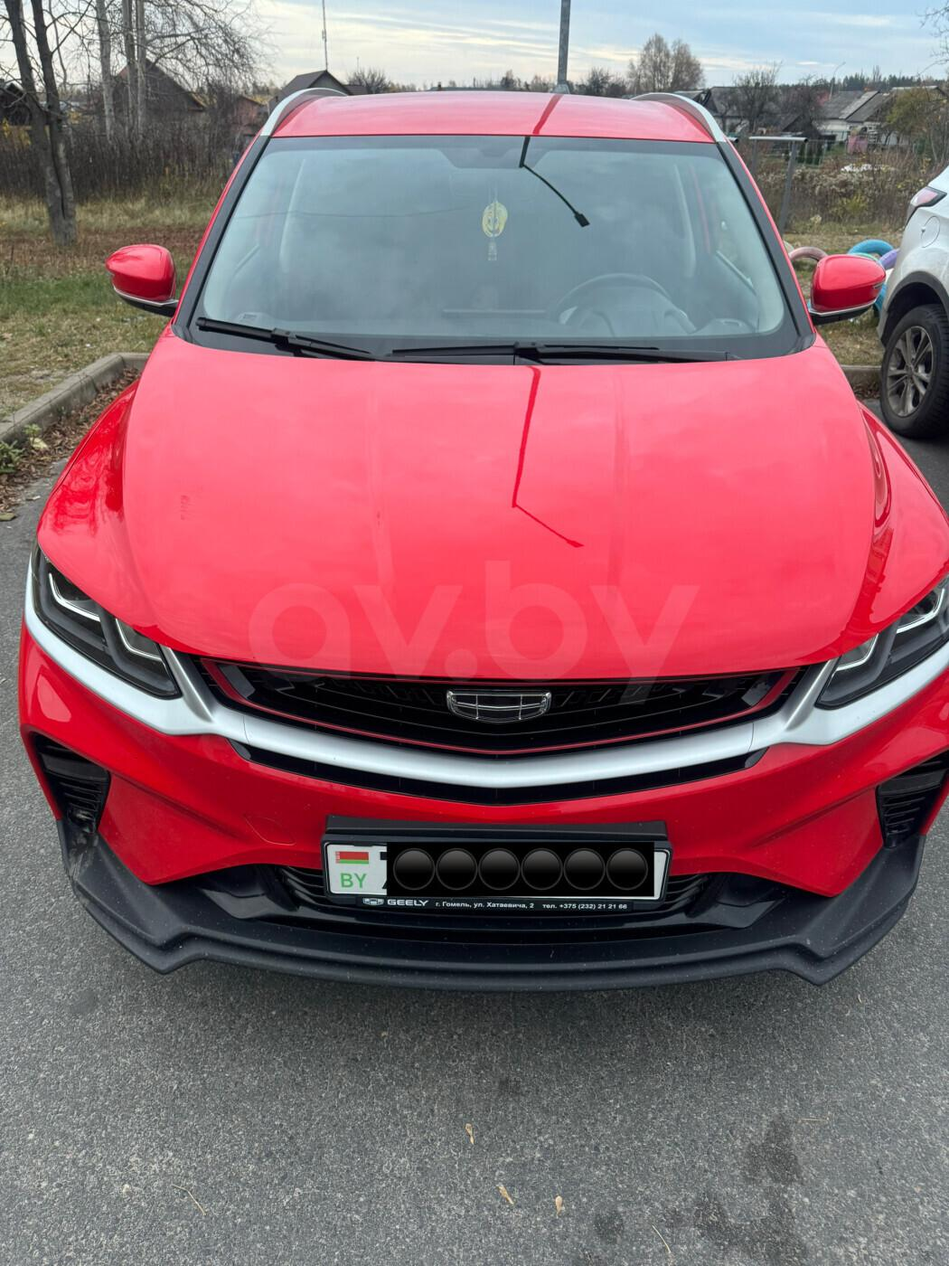Coolray_2019-2023: (11, 72, 949, 995)
